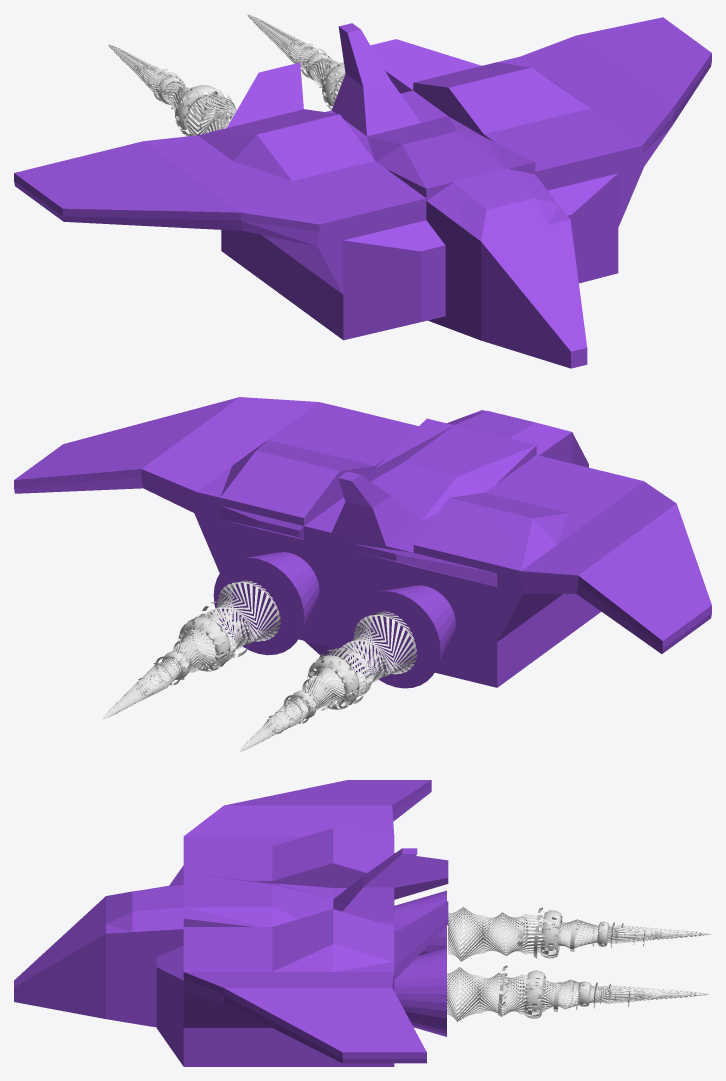
Rendered from naveAnimada.fbx.
3 views of the same model, one above another, from view 1: azimuth 30°, elevation 25°; view 2: azimuth 150°, elevation 25°; view 3: azimuth 270°, elevation 25° (orthographic). The views are drawn at different scales.
Visible parts, largest first — view 1: nave, propulsor1, propulsor2; view 2: nave, propulsor1, propulsor2; view 3: nave, propulsor1, propulsor2.
Part boxes in pixels (x1,y1,x2,y2): nave: (14,17,711,368); propulsor1: (108,44,236,136); propulsor2: (247,14,345,110); nave: (14,397,711,688); propulsor1: (240,611,417,751); propulsor2: (103,580,280,719); nave: (14,780,448,1066); propulsor1: (448,907,711,961); propulsor2: (447,965,708,1021).
Size of the model in its own units: 1189 by 356 by 1288.
